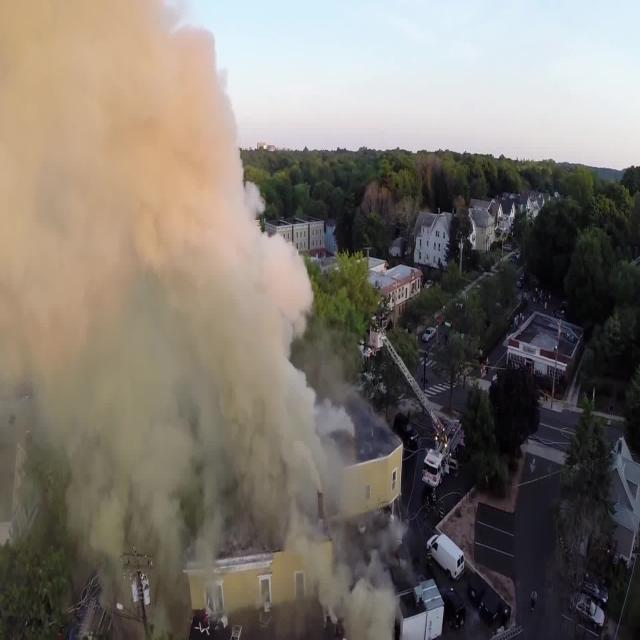Smoke: (0, 0, 394, 630)
